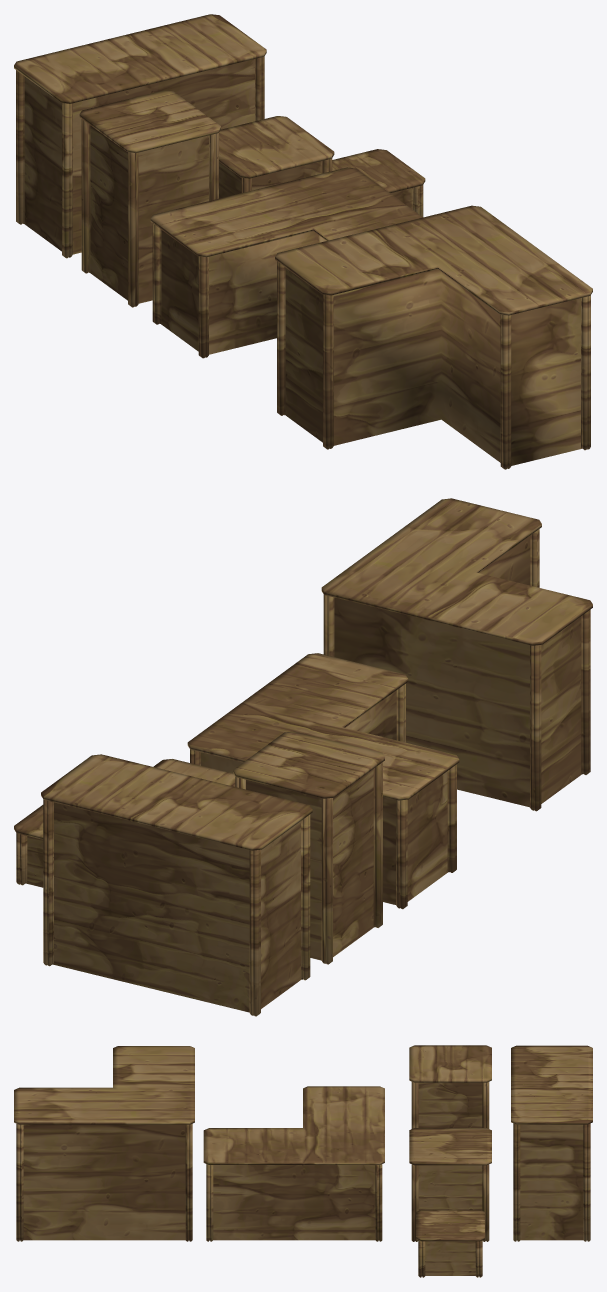
The model's file is Plataformas.fbx.
3 renders of one model, top to bottom at view 1: azimuth 30°, elevation 25°; view 2: azimuth 150°, elevation 25°; view 3: azimuth 270°, elevation 25°, orthographic. The views are drawn at different scales.
Parts seen in each view (by area): view 1: PlataformaAltaEle, plataformaAltaLarga, PlataformaMedianaEle, PlataformaAlta, PlataformaMediana, PlataformaBaja; view 2: plataformaAltaLarga, PlataformaAltaEle, PlataformaMedianaEle, PlataformaAlta, PlataformaBaja, PlataformaMediana; view 3: PlataformaAltaEle, PlataformaMedianaEle, plataformaAltaLarga, PlataformaMediana, PlataformaAlta, PlataformaBaja.
Boxes of the visible parts, x1,y1,x2,y2 form: PlataformaAltaEle: [275, 205, 592, 469]; plataformaAltaLarga: [14, 14, 266, 258]; PlataformaMedianaEle: [150, 167, 422, 358]; PlataformaAlta: [79, 90, 220, 307]; PlataformaMediana: [219, 116, 334, 198]; PlataformaBaja: [332, 149, 425, 216]; plataformaAltaLarga: [41, 754, 312, 1016]; PlataformaAltaEle: [321, 498, 592, 811]; PlataformaMedianaEle: [187, 653, 459, 909]; PlataformaAlta: [233, 731, 384, 964]; PlataformaBaja: [14, 805, 43, 887]; PlataformaMediana: [153, 759, 235, 786]; PlataformaAltaEle: [14, 1046, 194, 1241]; PlataformaMedianaEle: [203, 1086, 384, 1241]; plataformaAltaLarga: [511, 1045, 592, 1241]; PlataformaMediana: [409, 1128, 491, 1241]; PlataformaAlta: [409, 1045, 491, 1128]; PlataformaBaja: [416, 1210, 484, 1277].
Bounding box in the file's own units: 984 × 495 × 2140.
6 materials, 6 textured.
